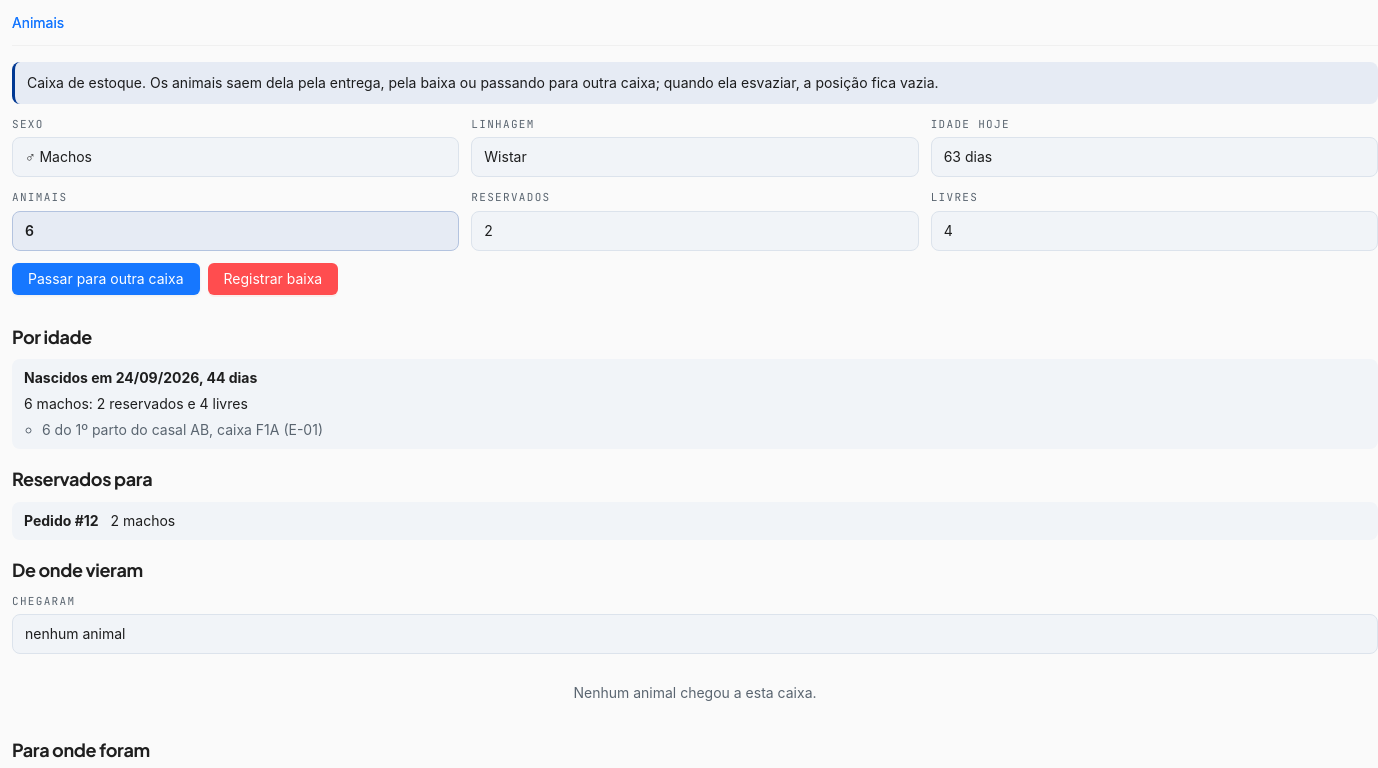
ficha da caixa de estoque › mudar animais leva para outra caixa de machos da linhagem, ou para uma posição vazia
This screenshot has width=1378, height=768.
Later steps or results of the test are not shown.
Click the button "Passar para outra caixa" at (106, 279), box [12,263,200,295]
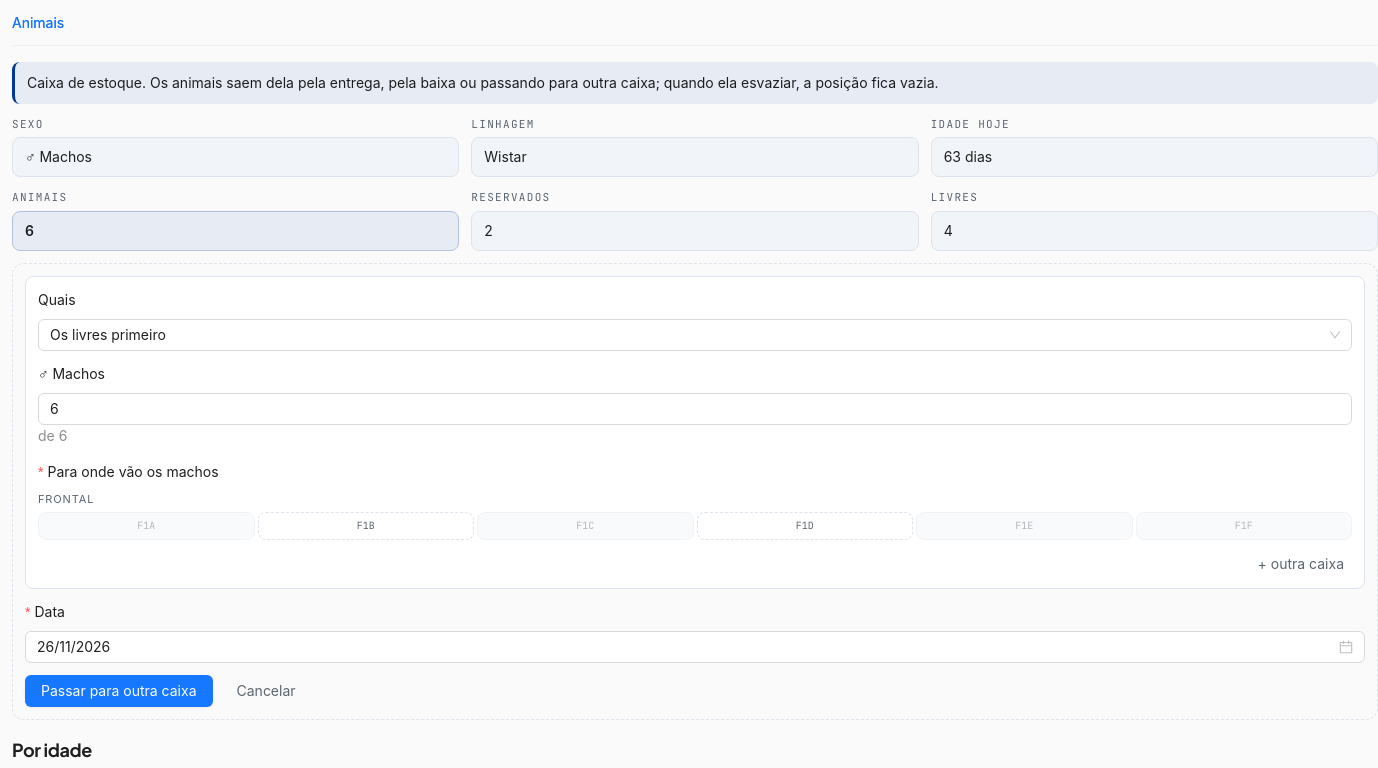
Result: the button titled "F1C: a caixa de onde" is disabled at [477,512,694,540]
Result: the button titled "F1E: ocupada" is disabled at [916,512,1132,540]
Result: the button titled "F1F: ocupada" is disabled at [1136,512,1352,540]
